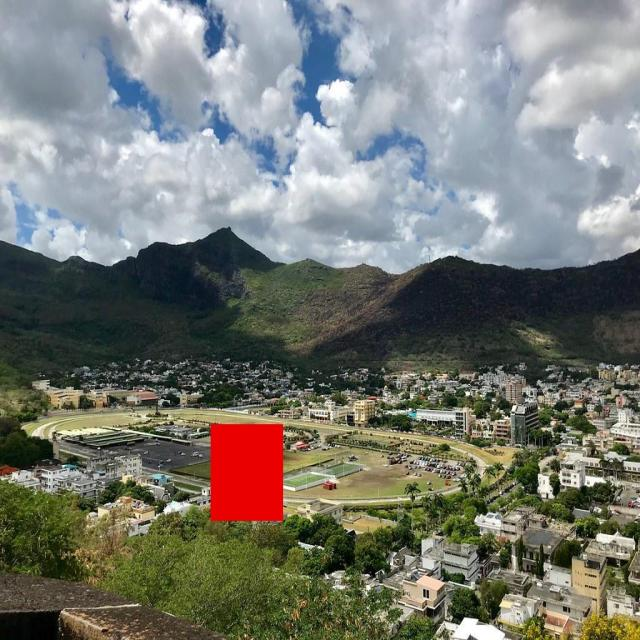RedSquare: (209, 421, 286, 526)
